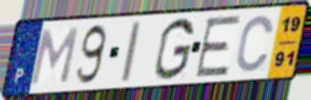9: (75, 22, 109, 86)
C: (234, 13, 276, 75)
E: (193, 13, 244, 79)
G: (152, 15, 197, 82)
I: (119, 19, 143, 85)
M: (27, 25, 81, 87)
